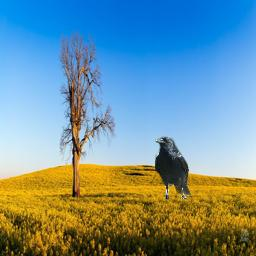Crow: (155, 136, 191, 199)
